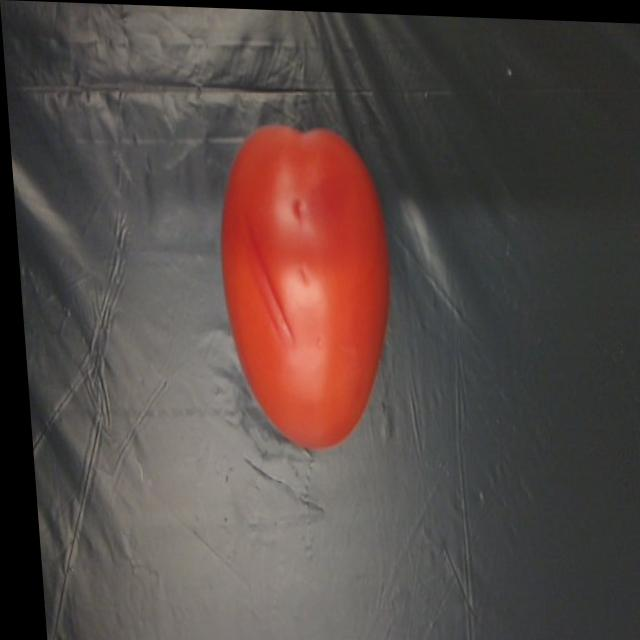kirmizi: (193, 112, 408, 466)
